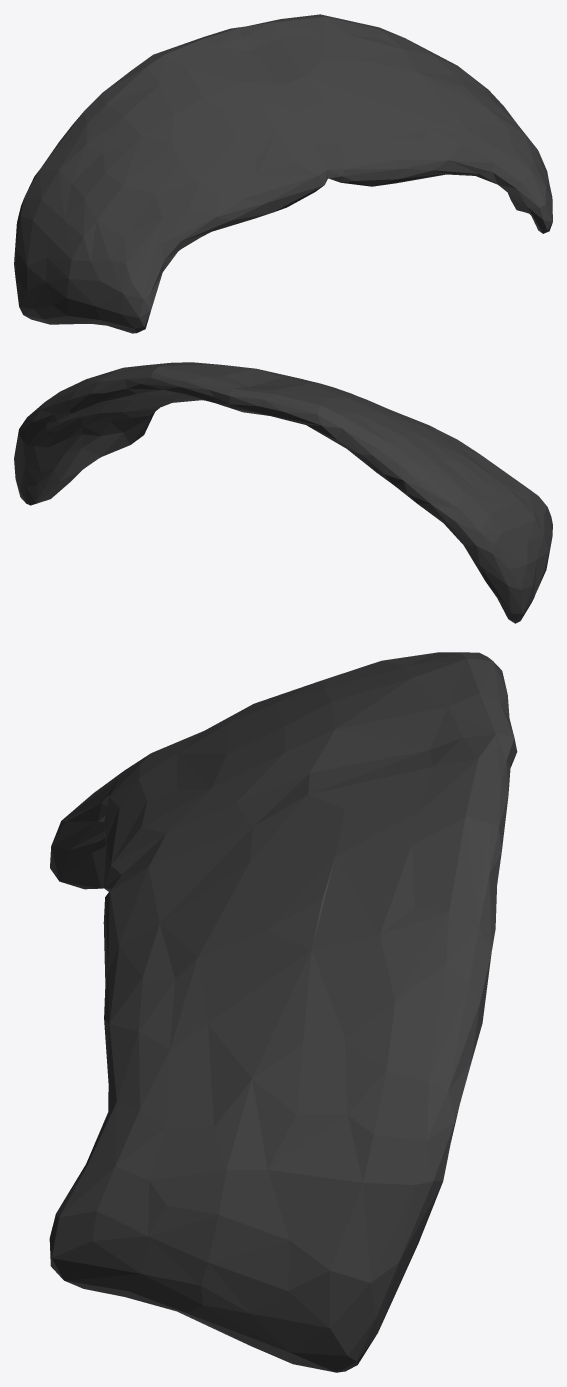
The model's file is m_mentalis.glb.
3 renders of one model, top to bottom at view 1: azimuth 30°, elevation 25°; view 2: azimuth 150°, elevation 25°; view 3: azimuth 270°, elevation 25°, orthographic. The views are drawn at different scales.
Parts seen in each view (by area): view 1: m_mentalis; view 2: m_mentalis; view 3: m_mentalis.
Part boxes in pixels (bbox=[...]): m_mentalis: bbox=[14, 14, 552, 333]; m_mentalis: bbox=[14, 362, 552, 623]; m_mentalis: bbox=[49, 652, 517, 1372].
Bounding box in the file's own units: 0.000713 × 0.000276 × 0.000285.
Materials: 1 (1 with a texture image).
